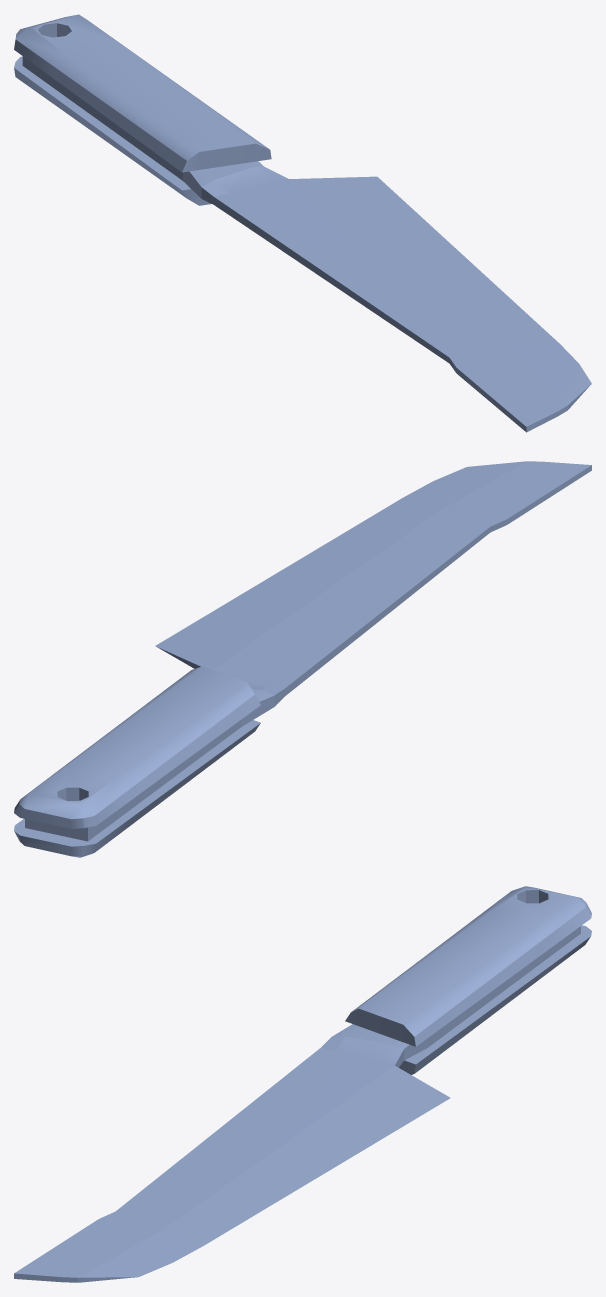
Rendered from Knife05.fbx.
3 views of the same model, one above another, from view 1: azimuth 30°, elevation 25°; view 2: azimuth 150°, elevation 25°; view 3: azimuth 330°, elevation 25° (orthographic).
Parts seen in each view (by area): view 1: Utensils01_Uv_v001:Knife05; view 2: Utensils01_Uv_v001:Knife05; view 3: Utensils01_Uv_v001:Knife05.
Boxes of the visible parts, left/top/right/bottom form: Utensils01_Uv_v001:Knife05: left=14, top=14, right=591, bottom=432; Utensils01_Uv_v001:Knife05: left=14, top=461, right=591, bottom=857; Utensils01_Uv_v001:Knife05: left=14, top=886, right=591, bottom=1282.
Bounding box in the file's own units: 8.39 × 2.84 × 49.68.
Materials: 1 (1 with a texture image).
